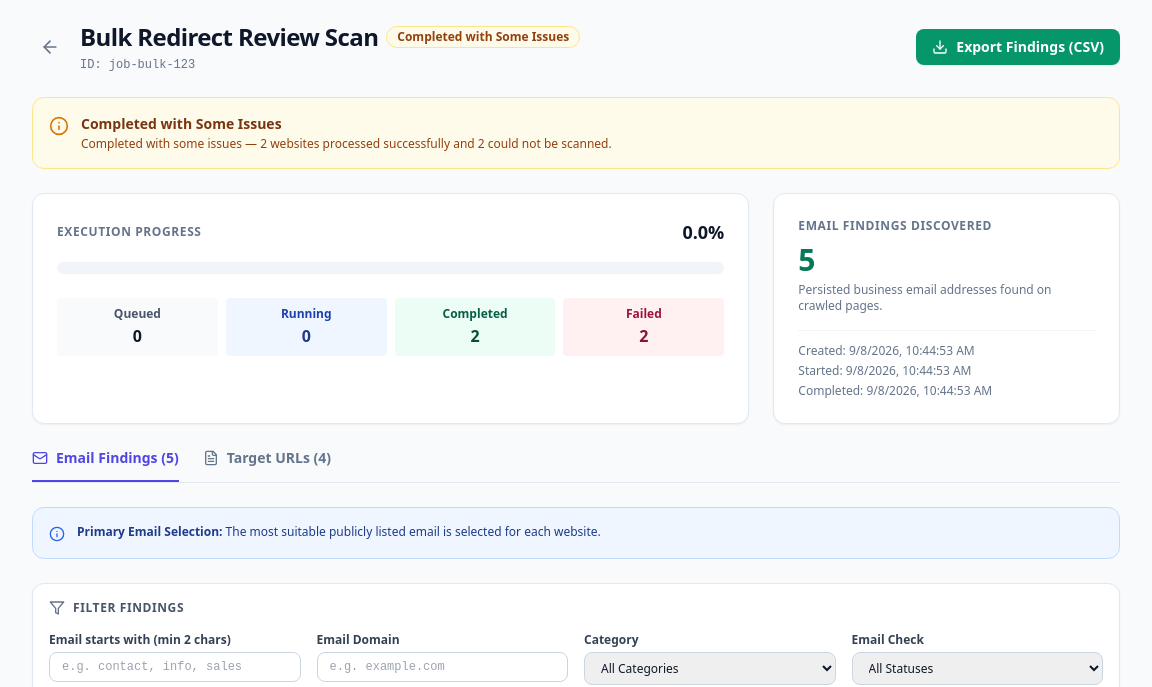
Scenario: Bulk Redirect Review Web UI › executes bulk approval flow with confirmation dialog and url_ids contract
Expected: the text "Target URLs (4)" is shown, [227,448,331,468]
Step 1. Click the button "Target URLs (4)" → point(267, 465), box [203,448,331,482]
(page scrolled)
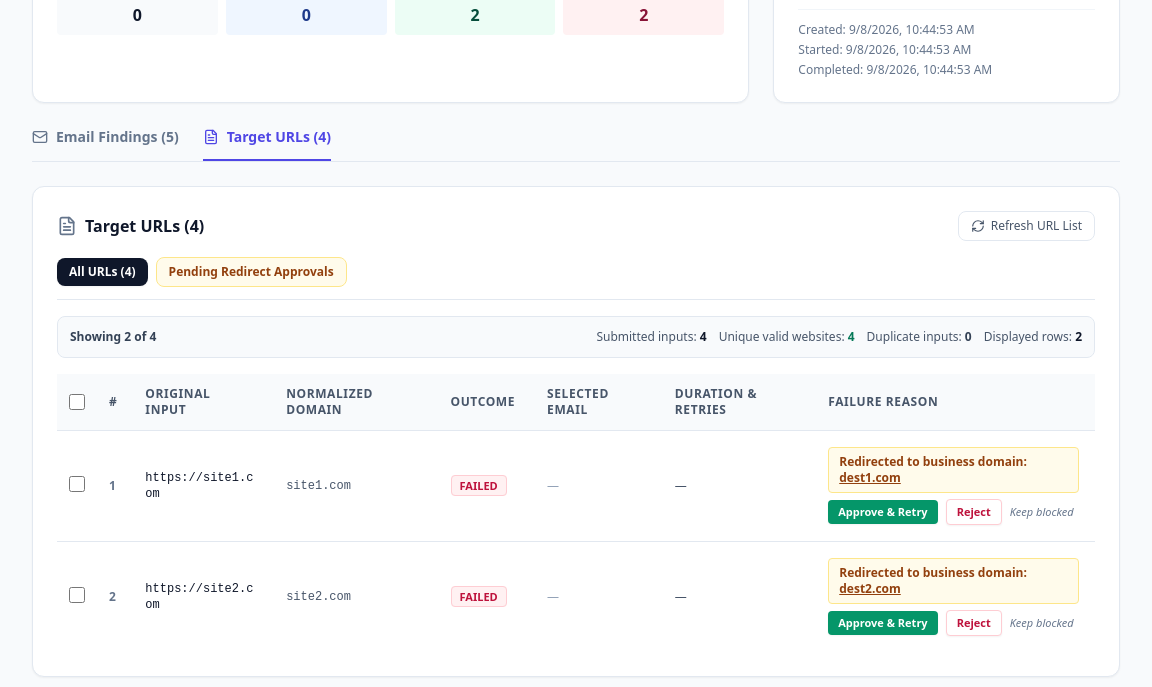
Now the checkbox titled "Select all loaded pending redirects" is shown
Note: Select all loaded
Step 2. Click the checkbox titled "Select all loaded pending redirects" → point(77, 402), box [69,394,85,410]
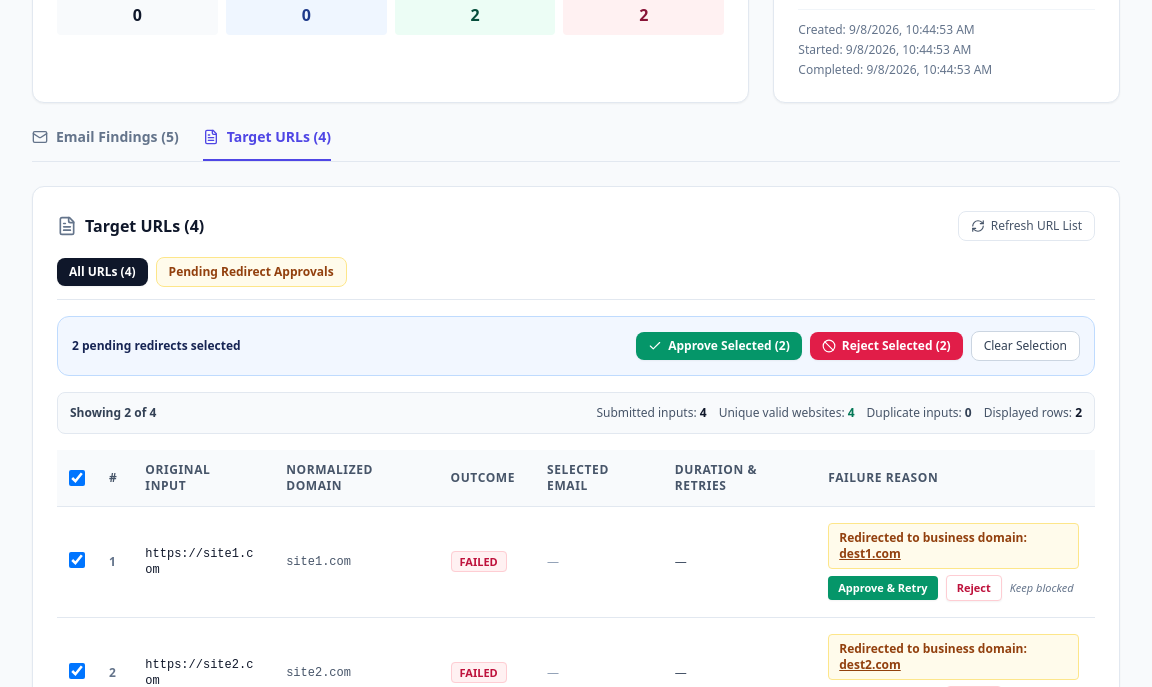
Now the button "Approve Selected (2)" is shown
Note: Click Approve Selected to open modal
Step 3. Click the button "Approve Selected (2)" → point(719, 346), box [636,332,802,360]
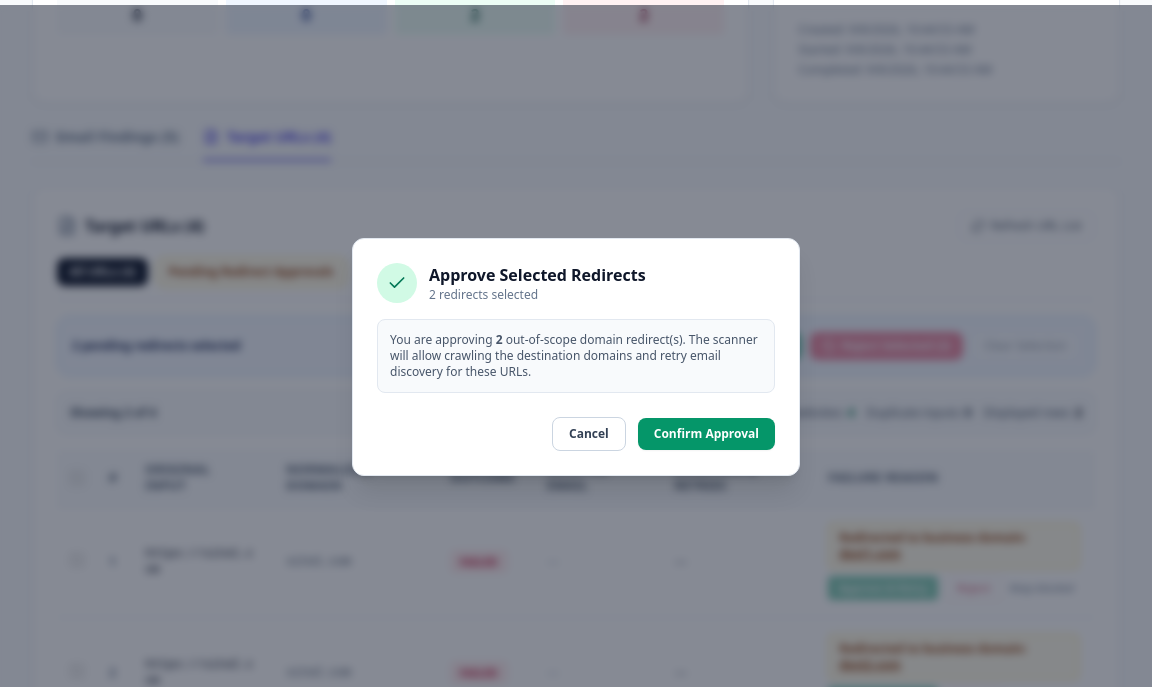
Now the heading "Approve Selected Redirects" is shown, box [429,263,646,287]
Now the text "You are approving" is shown, box [390,331,496,348]
Now the button "Confirm Approval" is shown
Note: Click Confirm Approval
Step 4. Click the button "Confirm Approval" → point(706, 434), box [638,418,775,450]
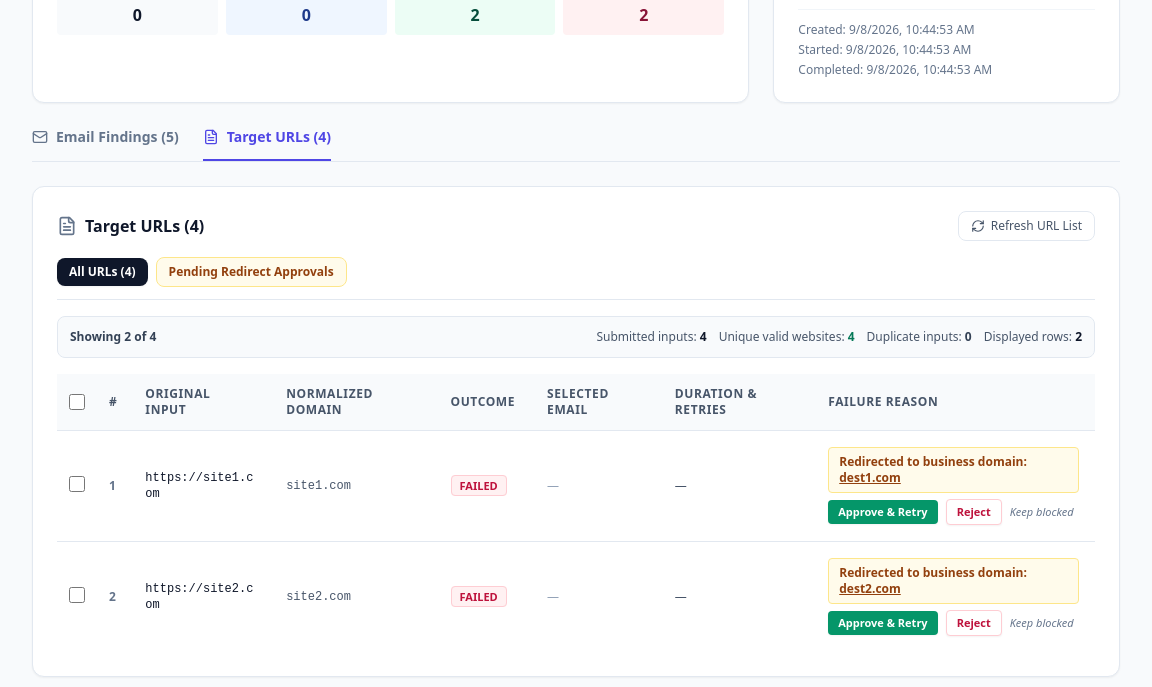
Now the text "2 pending redirects selected" is gone
Now the heading "Approve Selected Redirects" is gone
